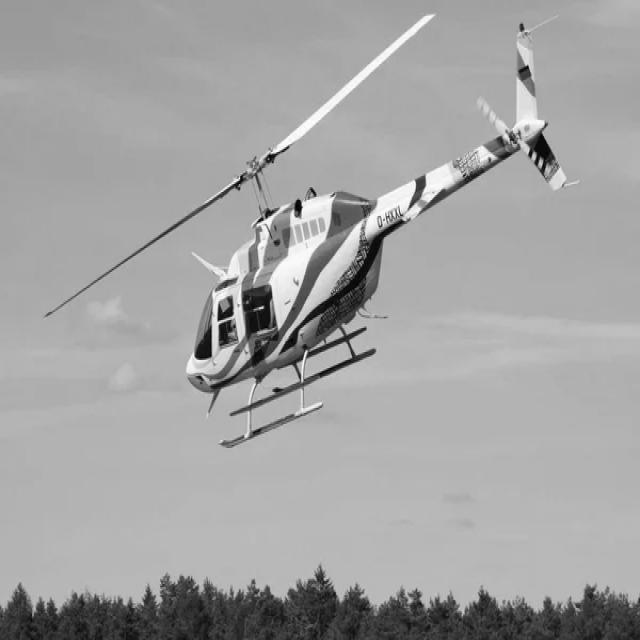Helicopter: (187, 24, 571, 449)
